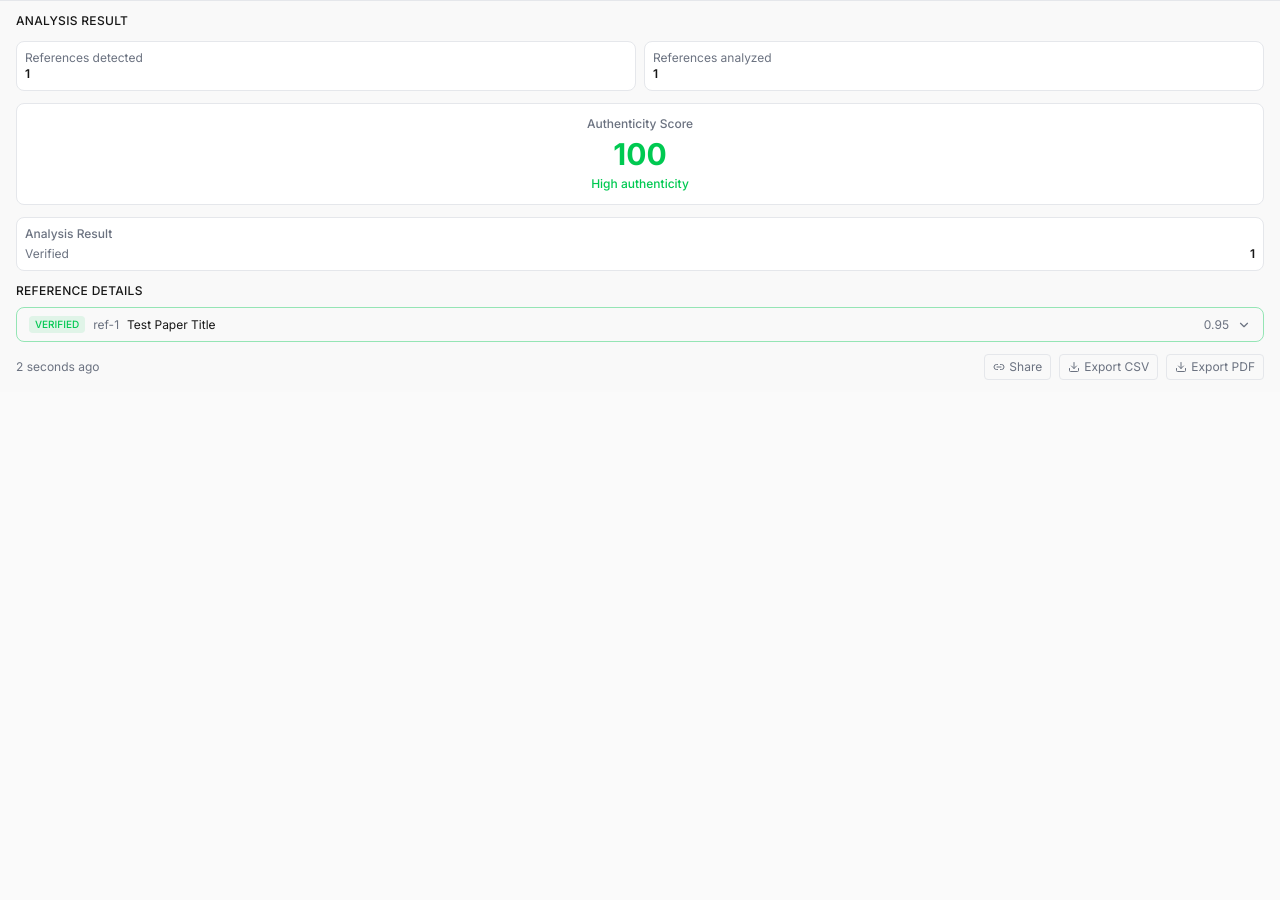
ExpandedDetail — section headings per locale › shows 'Normalized fields' in English
Click the button "Verified ref-1 Test Paper Title 0.95": (57, 325) [17, 308, 1263, 341]
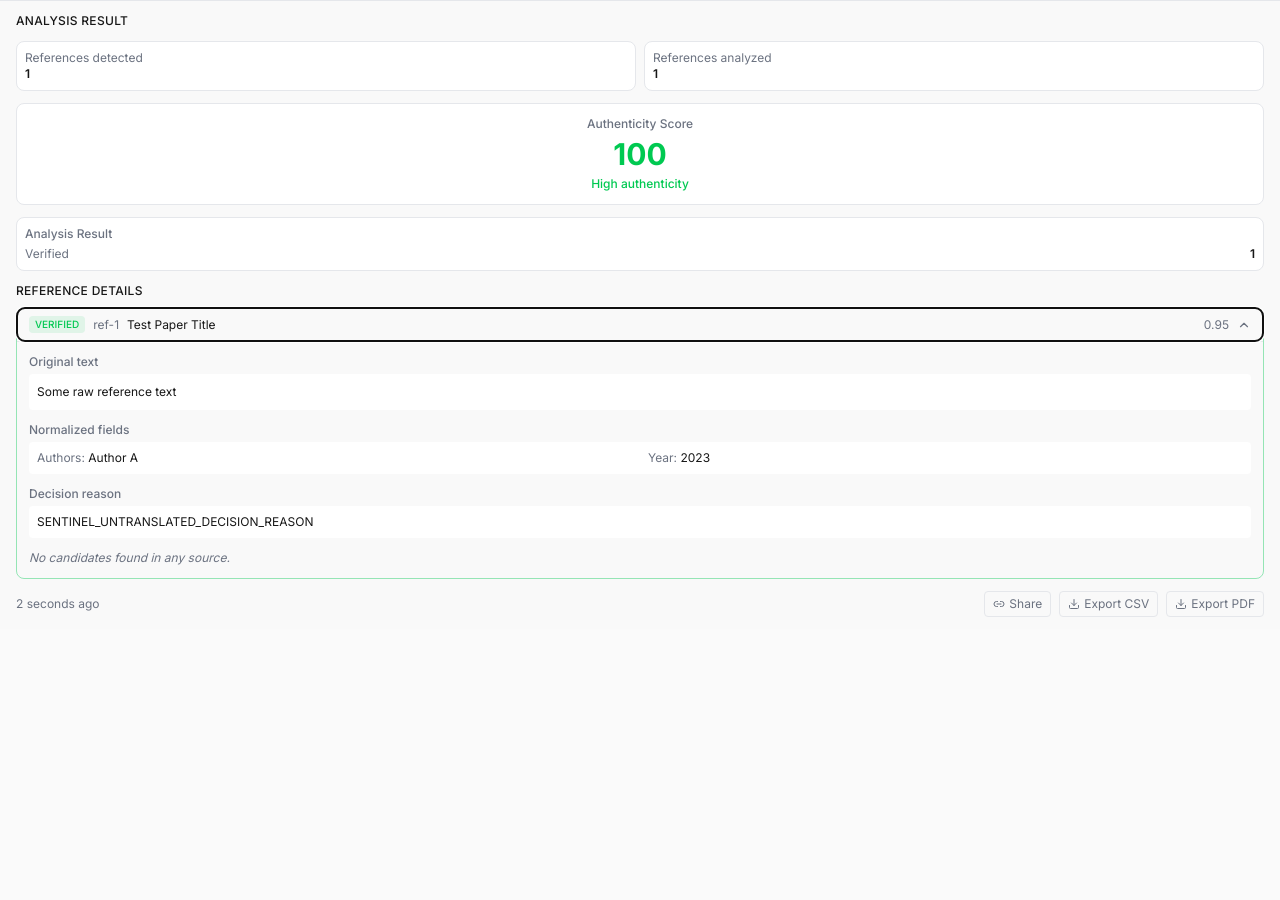
Expected: the text "Normalized fields" is shown, [29, 422, 129, 437]
